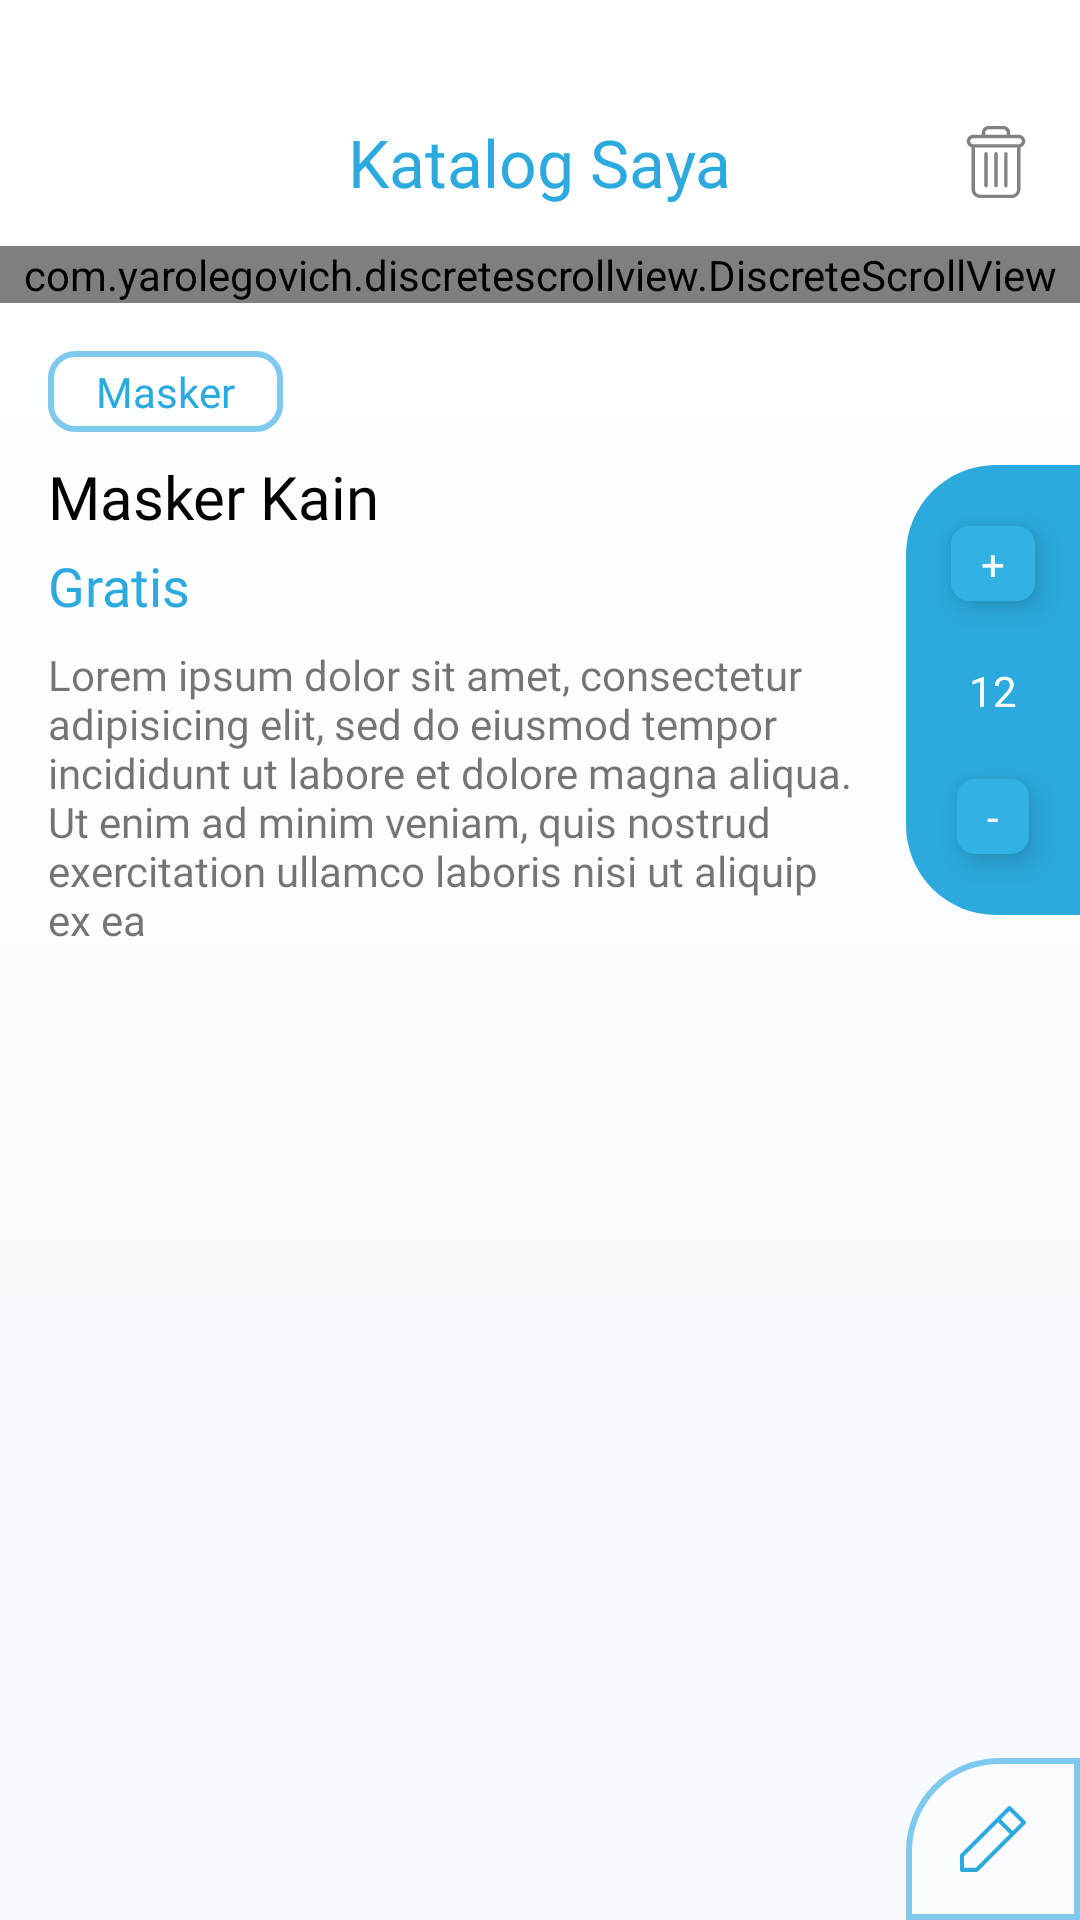

Named icons in this screenshot (1080px x 1920px) and their centers, [x,y]:
delete: [996,162]
edit: [993,1839]
